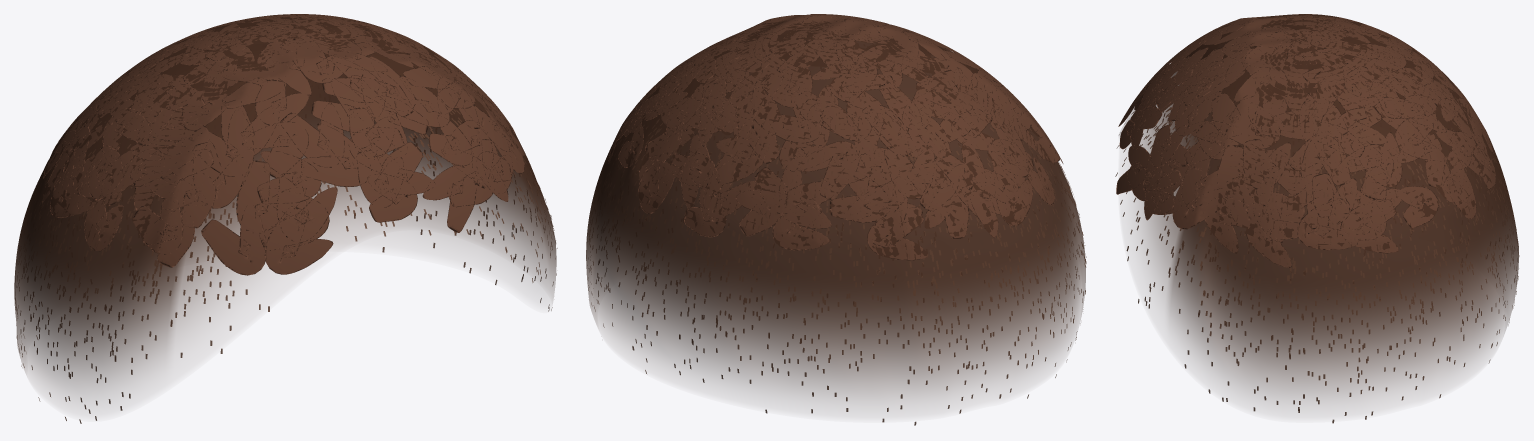
File: Masculine-curly-top-covered248-hair.glb
3 views of the same model, side by side, from view 1: azimuth 30°, elevation 25°; view 2: azimuth 150°, elevation 25°; view 3: azimuth 270°, elevation 25° (orthographic). The views are drawn at different scales.
Parts seen in each view (by area): view 1: 226 hair / Hair / chestnut226.002, 226 hair / Hair / neutral coverage235.002, 226 hair / Hair / cut grain235.002; view 2: 226 hair / Hair / neutral coverage235.002, 226 hair / Hair / chestnut226.002, 226 hair / Hair / cut grain235.002; view 3: 226 hair / Hair / neutral coverage235.002, 226 hair / Hair / chestnut226.002, 226 hair / Hair / cut grain235.002.
Boxes of the visible parts, x1,y1,x2,y2 form: 226 hair / Hair / chestnut226.002: [42, 14, 524, 275]; 226 hair / Hair / neutral coverage235.002: [14, 14, 556, 401]; 226 hair / Hair / cut grain235.002: [14, 60, 557, 423]; 226 hair / Hair / neutral coverage235.002: [586, 19, 1085, 405]; 226 hair / Hair / chestnut226.002: [608, 14, 1063, 260]; 226 hair / Hair / cut grain235.002: [586, 65, 1086, 425]; 226 hair / Hair / neutral coverage235.002: [1121, 14, 1518, 405]; 226 hair / Hair / chestnut226.002: [1116, 14, 1495, 267]; 226 hair / Hair / cut grain235.002: [1115, 73, 1519, 423].
Size of the model in its own units: 0.9593 by 0.6123 by 0.7711.
